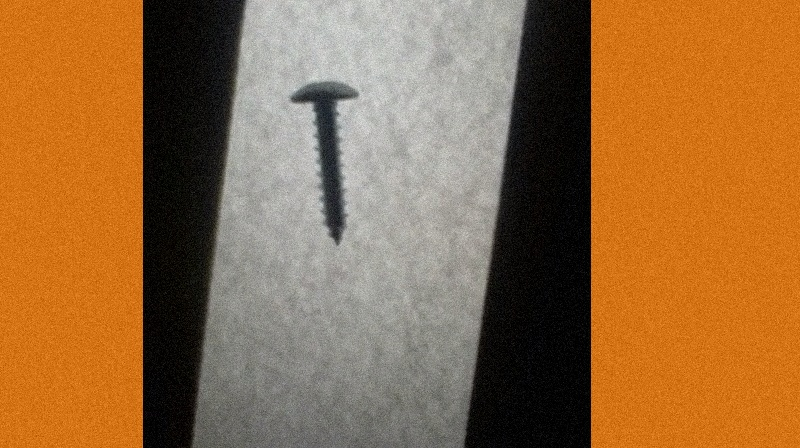S003: (287, 75, 359, 251)
